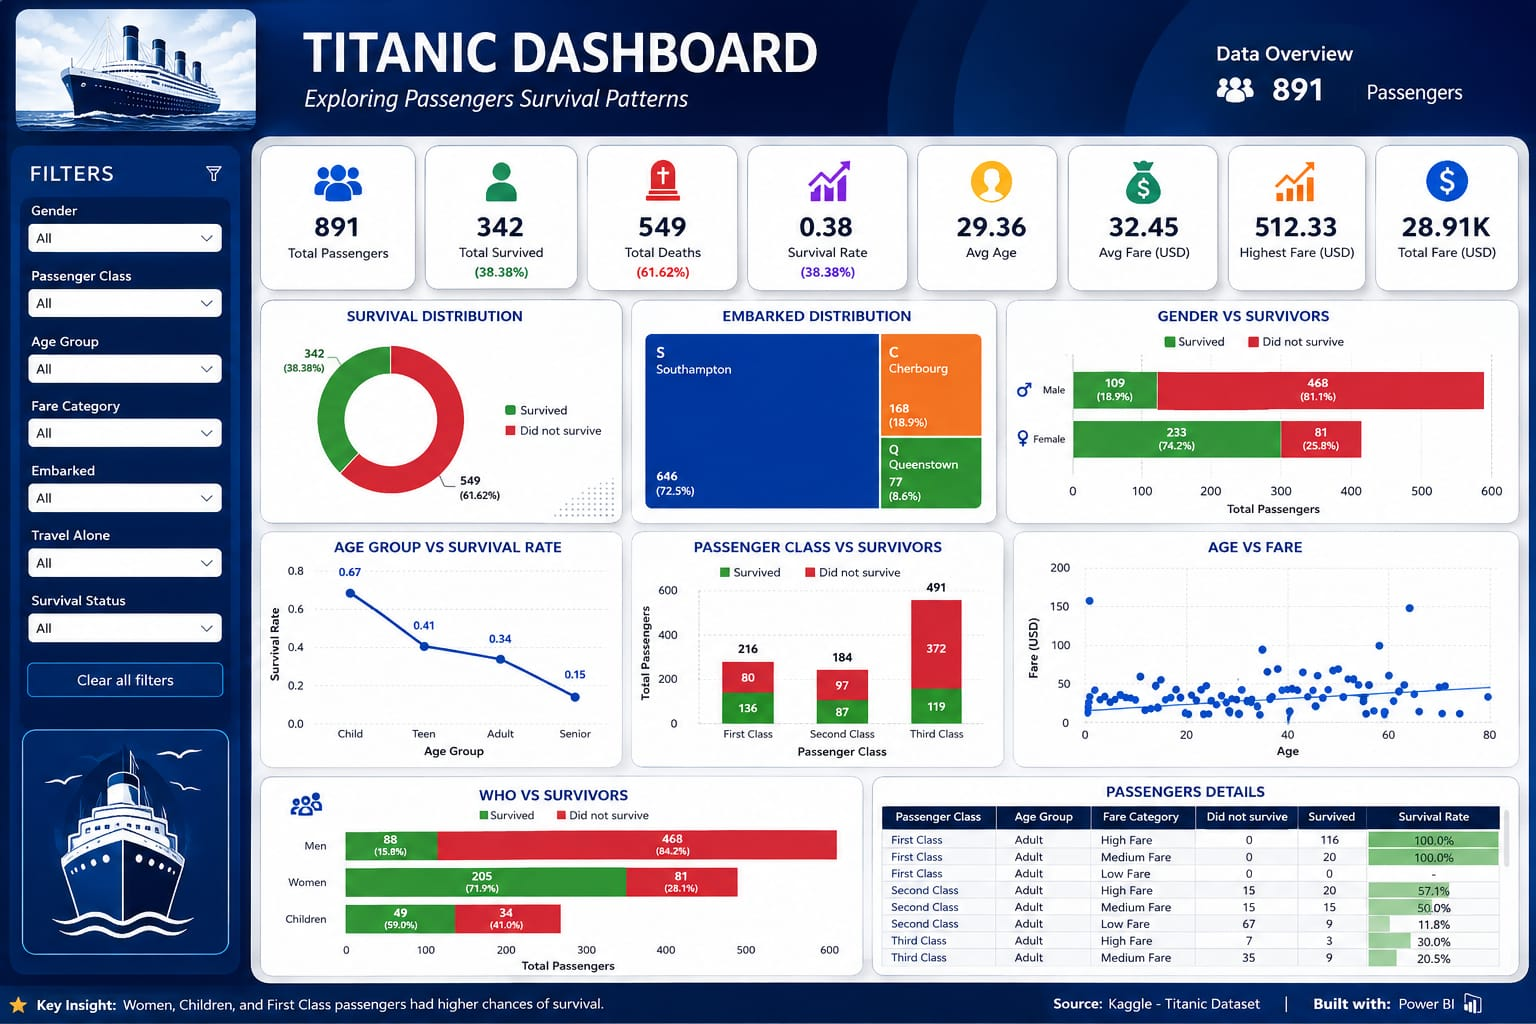

What the dashboard file says about the page in this screenshot:
{"tool":"powerbi","page":{"name":"Page 1","canvas":[1920,1400],"ordinal":0},"visuals":[{"type":"cardVisual","fields":{"Data":["titanic.total_passengers"]},"box":[290.1,142.7,180.7,190.2],"z":0},{"type":"slicer","title":"Gender","fields":{"Values":["titanic.sex"]},"box":[0,265,253.4,60],"z":0,"group":"g1"},{"type":"slicer","fields":{"Values":["titanic.Passenger Class"]},"box":[0,346.6,253.4,60],"z":1000,"group":"g1"},{"type":"donutChart","title":"Survival Distribution","fields":{"Category":["titanic.survival_distribution"],"Y":["CountNonNull(titanic.sex)"]},"box":[290.1,361.4,449.4,300],"z":1000},{"type":"cardVisual","fields":{"Data":["titanic.total_survivers"]},"box":[494.6,142.7,180.7,190.2],"z":2000},{"type":"slicer","fields":{"Values":["titanic.Age Group"]},"box":[0,435.4,253.4,60],"z":2000,"group":"g1"},{"type":"slicer","fields":{"Values":["titanic.Fare Category"]},"box":[0,528.9,253.4,60],"z":3000,"group":"g1"},{"type":"columnChart","title":" Passenger Class vs Survivors","fields":{"Category":["titanic.Passenger Class"],"Y":["titanic.total_passengers"],"Series":["titanic.survival_distribution"]},"box":[815.6,687.2,449.4,299.6],"z":3000},{"type":"cardVisual","fields":{"Data":["titanic.total_death"]},"box":[696.7,142.7,180.7,190.2],"z":4000},{"type":"slicer","fields":{"Values":["titanic.embarked"]},"box":[0,608.1,253.4,60],"z":4000,"group":"g1"},{"type":"barChart","title":"Gender vs Survivors","fields":{"Category":["titanic.sex"],"Series":["titanic.survival_distribution"],"Y":["titanic.total_passengers"]},"box":[1241.2,356.7,665,300],"z":5000},{"type":"slicer","fields":{"Values":["titanic.is_alone"]},"box":[0,701.6,251.1,60],"z":5000,"group":"g1"},{"type":"cardVisual","fields":{"Data":["titanic.surviver_rate"]},"box":[896.4,142.7,180.7,190.2],"z":6000},{"type":"slicer","fields":{"Values":["titanic.survival_distribution"]},"box":[0,778.4,253.4,60],"z":6000,"group":"g1"},{"type":"lineChart","title":"Age Group vs Survival Rate","fields":{"Category":["titanic.Age Group"],"Y":["titanic.surviver_rate"]},"box":[290.1,687.2,500,299.6],"z":7000},{"type":"cardVisual","fields":{"Data":["titanic.Avg_age"]},"box":[1108,142.7,180.7,190.2],"z":8000},{"type":"treemap","title":"Embarked Distribution","fields":{"Values":["CountNonNull(titanic.embarked)"],"Details":["titanic.embarked"]},"box":[763.3,361.4,451.8,299.6],"z":9000},{"type":"cardVisual","fields":{"Data":["titanic.Avg_fare"]},"box":[1312.5,142.7,180.7,190.2],"z":10000},{"type":"scatterChart","title":"Age vs Fare","fields":{"X":["titanic.age"],"Y":["titanic.Avg_fare"]},"box":[1288.7,687.2,600,299.6],"z":11000},{"type":"cardVisual","fields":{"Data":["titanic.highest_fare"]},"box":[1521.7,142.7,180.7,190.2],"z":12000},{"type":"tableEx","title":"Passengers Details ","fields":{"Values":["titanic.Passenger Class","titanic.Age Group","titanic.Fare Category","titanic.survived","titanic.survival_distribution"]},"box":[1287.5,1022.5,600,347.5],"z":13000},{"type":"cardVisual","fields":{"Data":["titanic.total_fare"]},"box":[1728.6,137.9,180,190],"z":14000},{"type":"actionButton","box":[0,0,100,40],"z":15000},{"type":"actionButton","box":[0,863.1,271.1,59.4],"z":16000},{"type":"textbox","box":[2,0,1900,130],"z":17000},{"type":"image","box":[223.5,9.5,190.2,109.4],"z":18000},{"type":"textbox","box":[0,142.7,271.1,91.2],"z":18000,"group":"g1"},{"type":"group","id":"g1","title":"Group 1","box":[0,142.7,271.1,1257.8],"z":19000},{"type":"image","box":[0,927.9,262.2,472.6],"z":19000,"group":"g1"},{"type":"barChart","title":"Who vs Survivors","fields":{"Category":["titanic.who"],"Series":["titanic.survival_distribution"],"Y":["titanic.total_passengers"]},"box":[297.5,1022.5,967.5,347],"z":20000},{"type":"actionButton","box":[4.8,867.9,249.7,59.4],"z":21000}]}

Visuals, with their boxes on the page's 1920x1400 design canvas (x1, y1, x2, y2). These are canvas units, not pixel positions in the 1536x1024 screenshot, which may show the page scaled, cropped or inside an application window:
cardVisual - titanic.total_passengers: 290:143:471:333
"Gender" slicer: 0:265:253:325
slicer - titanic.Passenger Class: 0:347:253:407
"Survival Distribution" donutChart: 290:361:740:661
cardVisual - titanic.total_survivers: 495:143:675:333
slicer - titanic.Age Group: 0:435:253:495
slicer - titanic.Fare Category: 0:529:253:589
" Passenger Class vs Survivors" columnChart: 816:687:1265:987
cardVisual - titanic.total_death: 697:143:877:333
slicer - titanic.embarked: 0:608:253:668
"Gender vs Survivors" barChart: 1241:357:1906:657
slicer - titanic.is_alone: 0:702:251:762
cardVisual - titanic.surviver_rate: 896:143:1077:333
slicer - titanic.survival_distribution: 0:778:253:838
"Age Group vs Survival Rate" lineChart: 290:687:790:987
cardVisual - titanic.Avg_age: 1108:143:1289:333
"Embarked Distribution" treemap: 763:361:1215:661
cardVisual - titanic.Avg_fare: 1312:143:1493:333
"Age vs Fare" scatterChart: 1289:687:1889:987
cardVisual - titanic.highest_fare: 1522:143:1702:333
"Passengers Details " tableEx: 1288:1022:1888:1370
cardVisual - titanic.total_fare: 1729:138:1909:328
actionButton: 0:0:100:40
actionButton: 0:863:271:922
textbox: 2:0:1902:130
image: 224:10:414:119
textbox: 0:143:271:234
"Group 1" group: 0:143:271:1400
image: 0:928:262:1400
"Who vs Survivors" barChart: 298:1022:1265:1370
actionButton: 5:868:254:927
